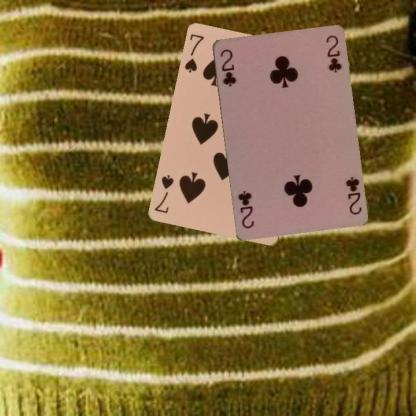2c: (341, 174, 363, 215), (217, 46, 237, 88)
7s: (182, 31, 206, 74)
